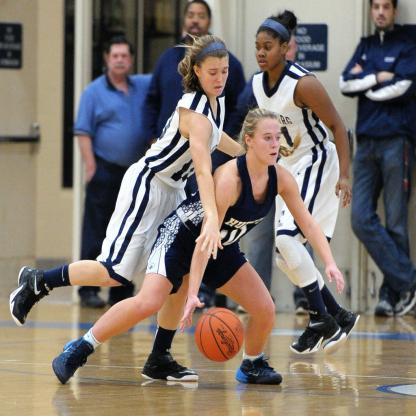Ball: (195, 306, 244, 362)
